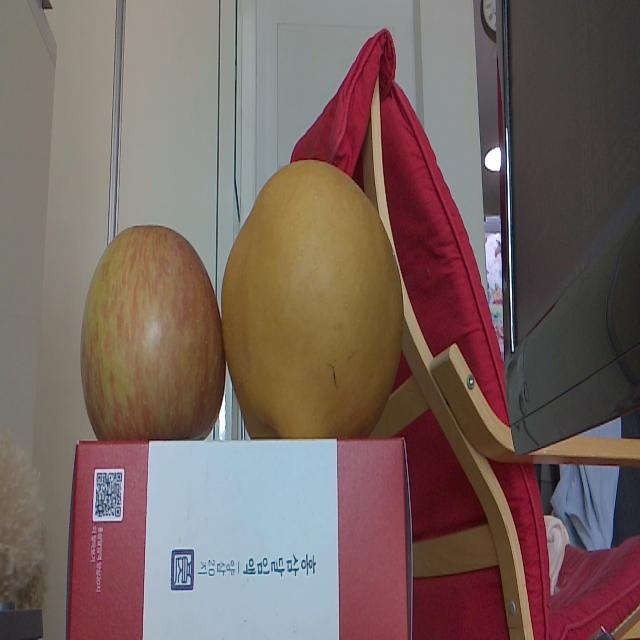apple: (80, 225, 222, 440)
pear: (223, 158, 405, 437)
